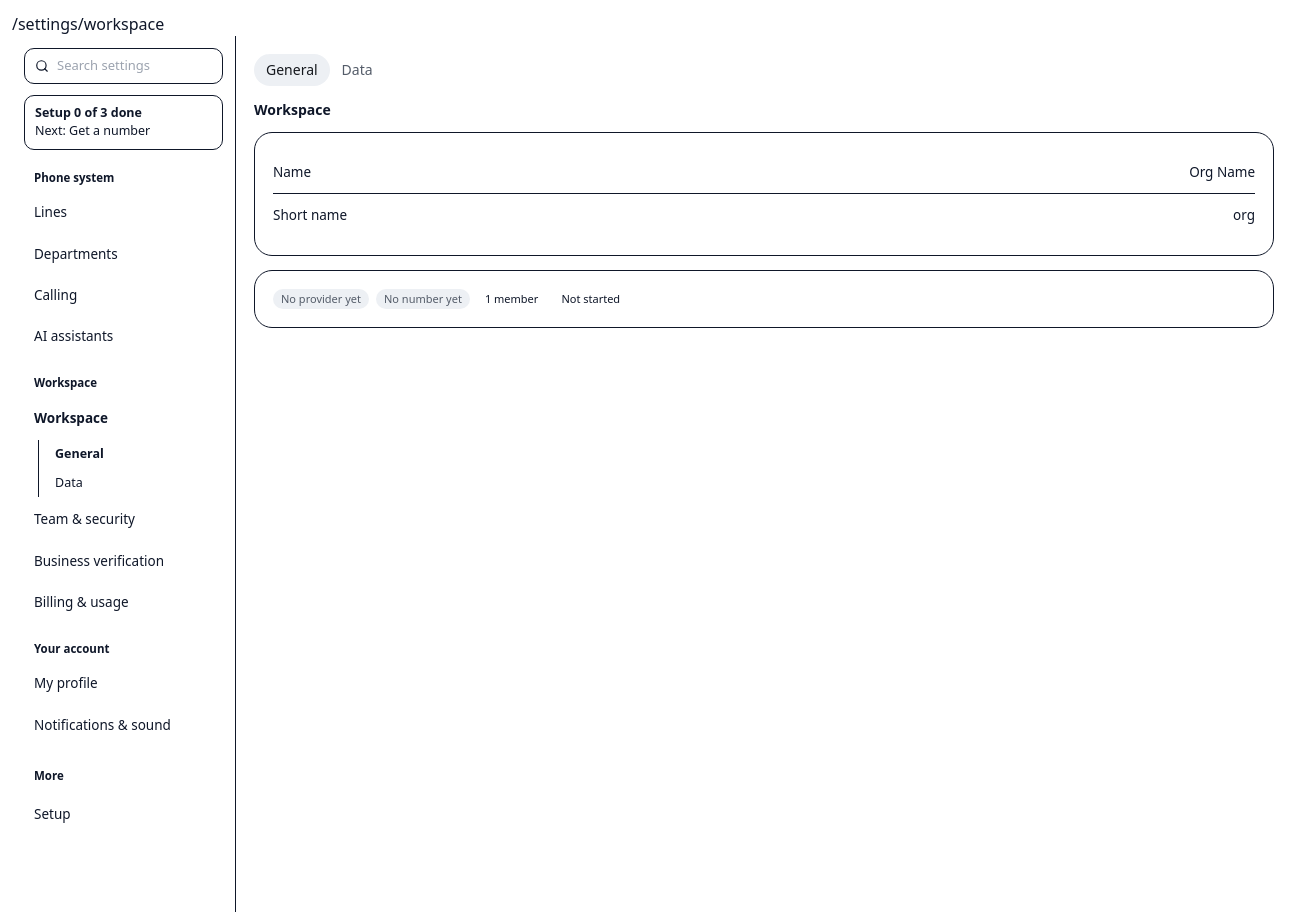
Test: Settings menu (Phase 1c) › filters the menu with the search box
Type "queue" into the field labelled "Search settings" at coordinates (134, 66), box [57,56,212,76]
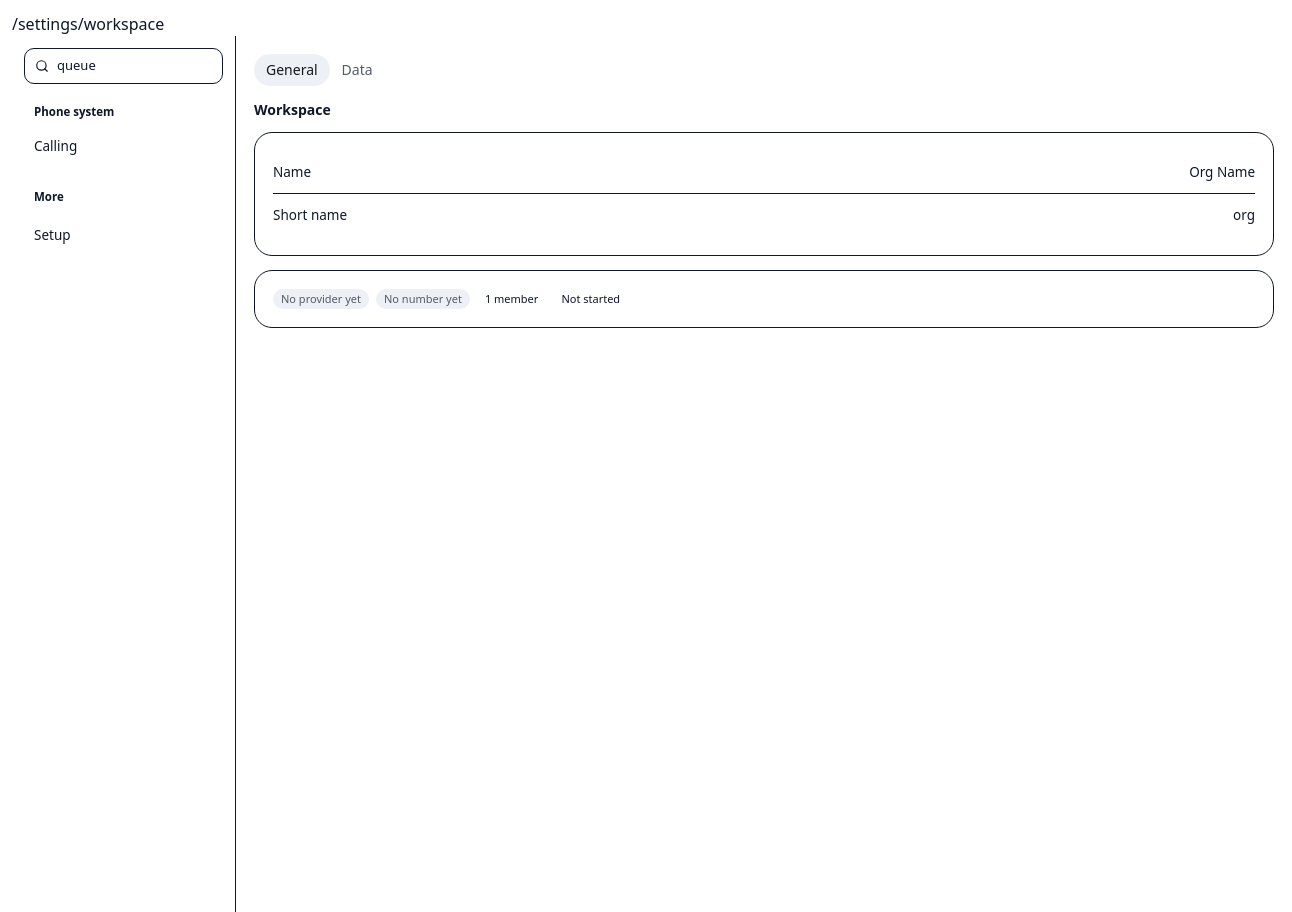
Expected: the link "Calling" is shown, [34,137,77,155]
Result: the link "Lines" is gone
